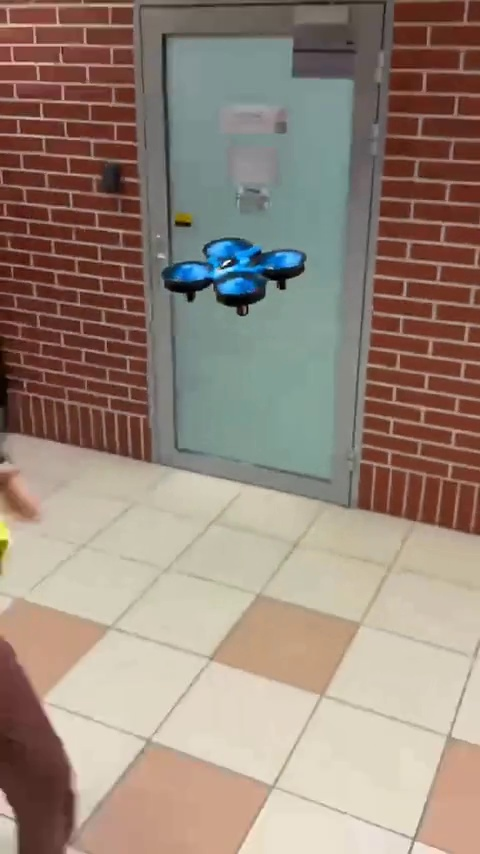drone: (170, 238, 304, 309)
